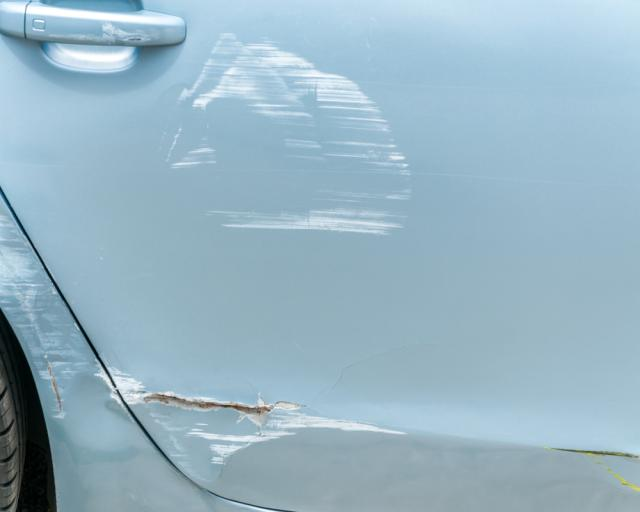crack: (145, 393, 291, 414)
dent: (61, 373, 140, 454)
scratch: (171, 33, 412, 244), (108, 362, 416, 480), (0, 188, 108, 416), (543, 444, 640, 493), (57, 22, 166, 46)
